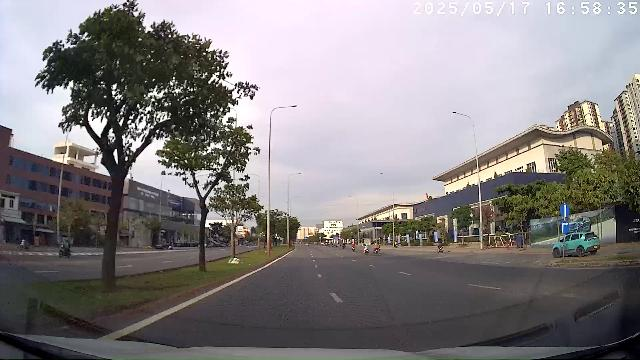301a-cac-xe-chi-duoc-di-thang: (560, 203, 570, 217)
301b-cac-xe-chi-duoc-re-phai: (560, 220, 570, 234)
